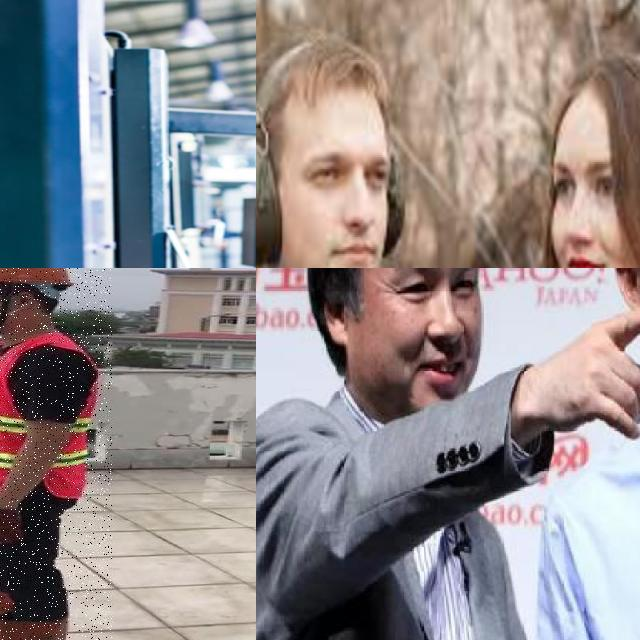Ear-protection: (256, 23, 425, 268), (533, 49, 640, 268)
No_Glasses: (293, 130, 393, 206), (545, 148, 621, 218), (378, 268, 485, 305)
face_nomask: (364, 268, 484, 416)
hand_noglove: (539, 302, 640, 439)
head_helmet: (0, 268, 75, 291)
person: (256, 268, 550, 640), (0, 268, 112, 640)
vest: (0, 336, 96, 500)
